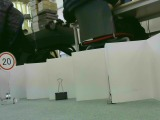speed_20: (1, 51, 16, 72)
